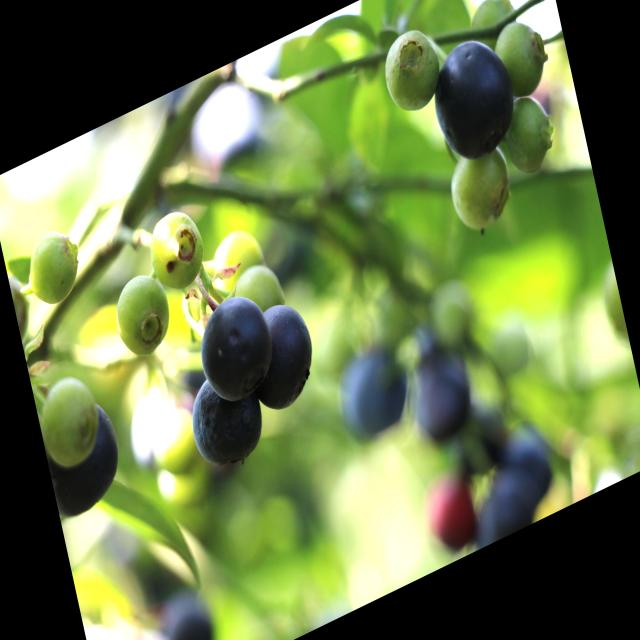blueberry: (422, 24, 526, 175), (187, 280, 281, 414), (42, 398, 134, 524), (181, 356, 271, 483), (244, 291, 324, 421)
blueberry-unripe: (33, 364, 110, 476), (442, 133, 515, 241), (142, 196, 214, 304), (17, 218, 89, 320), (108, 264, 178, 368), (378, 20, 448, 124), (492, 12, 553, 108), (498, 87, 559, 181), (206, 214, 271, 301), (229, 246, 291, 332), (467, 0, 522, 51)
